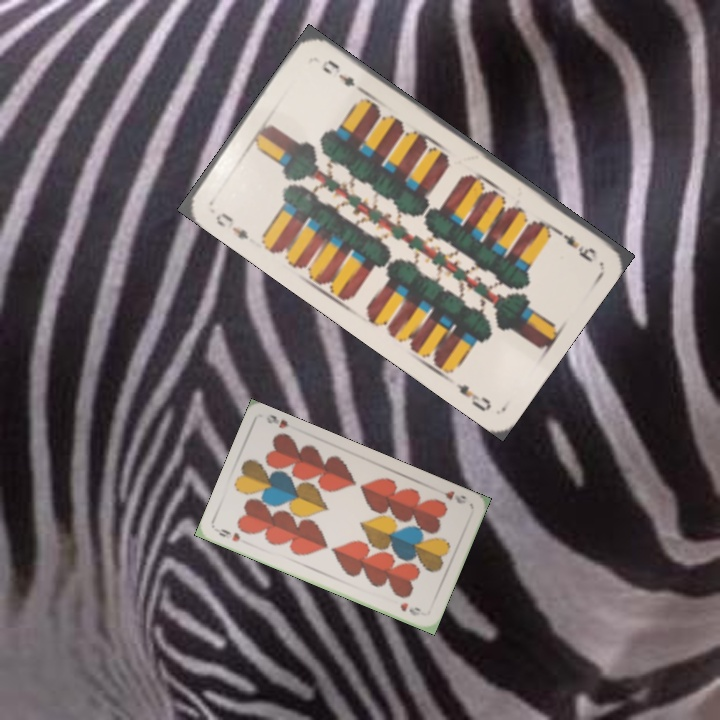E9: (549, 223, 601, 265), (211, 208, 252, 242)
H9: (433, 485, 468, 507), (212, 524, 243, 544)
